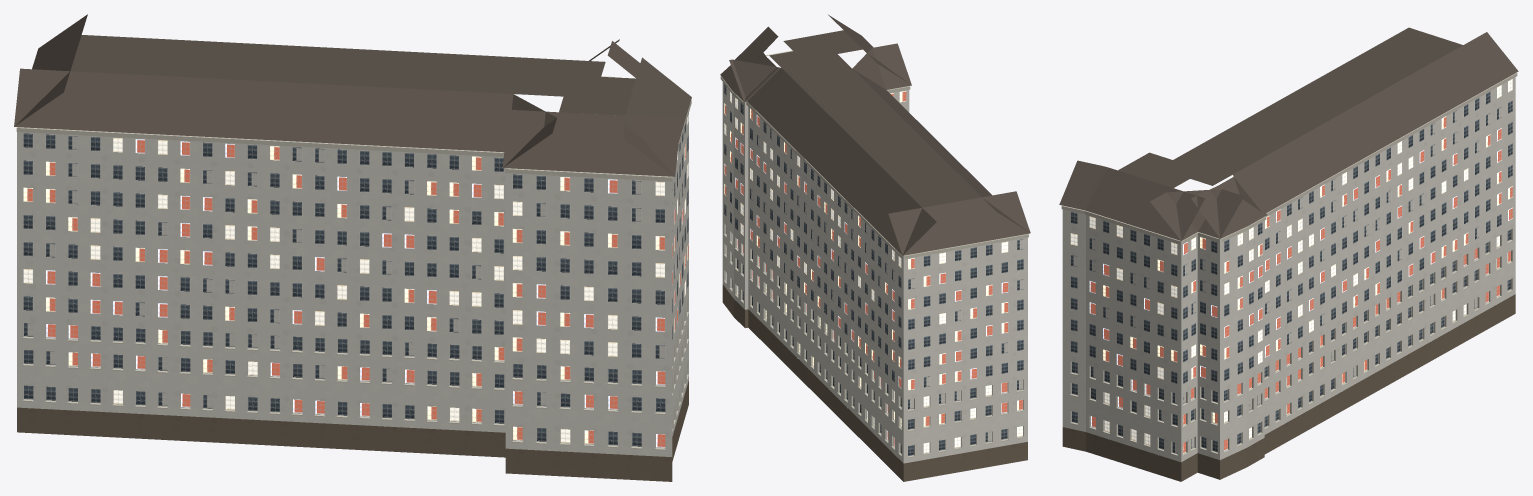
File: stadtmuehle.glb
The picture shows the model from 3 angles, left to right: view 1: azimuth 30°, elevation 25°; view 2: azimuth 150°, elevation 25°; view 3: azimuth 270°, elevation 25°; orthographic projection. The views are drawn at different scales.
Visible parts, largest first — view 1: stadtmuehle; view 2: stadtmuehle; view 3: stadtmuehle.
Boxes of the visible parts, x1,y1,x2,y2 form: stadtmuehle: (14,14,691,481); stadtmuehle: (720,14,1030,481); stadtmuehle: (1059,27,1518,481).
Bounding box in the file's own units: 68.15 × 41.52 × 63.68.
3 materials, 3 textured.
